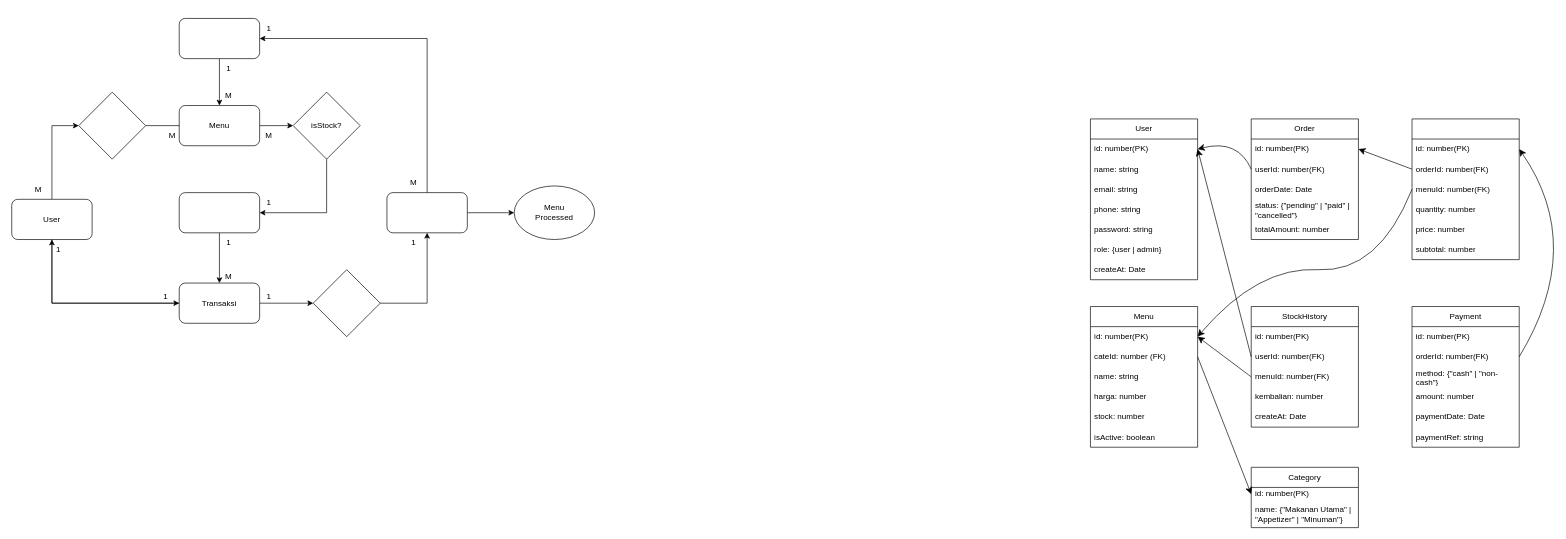
Some shapes in this 1566 by 539 pixel diagram are drawn without their labels. Here are the shapes that lost their labels. From the top down, the box of each, then its label:
(179, 18, 260, 59): Administrator
(78, 91, 146, 159): Memesan
(1411, 118, 1519, 260): OrderItem
(179, 192, 260, 233): Order Item
(386, 192, 467, 233): Laporan
(313, 269, 380, 337): isTransaction Succed?
